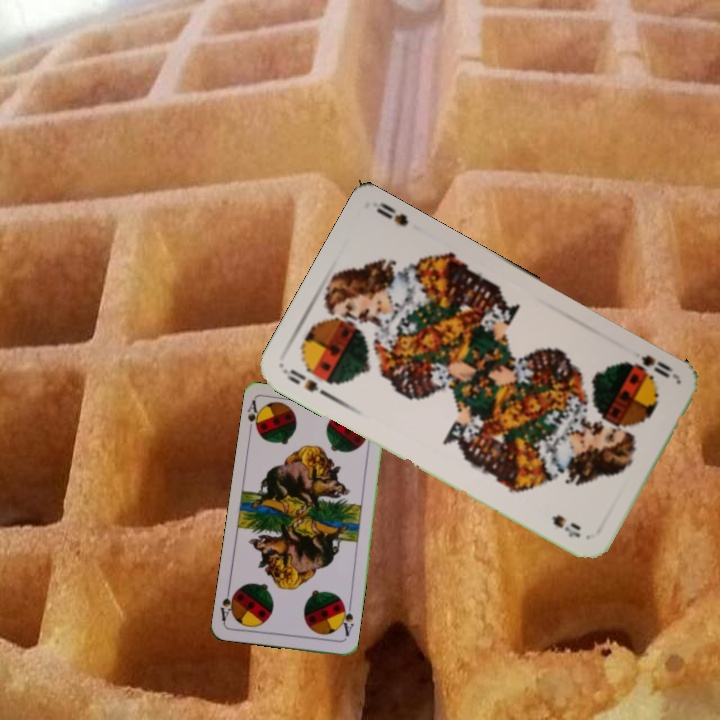SA: (243, 396, 265, 438), (336, 600, 356, 639)
SO: (280, 365, 335, 402), (621, 351, 679, 381)
